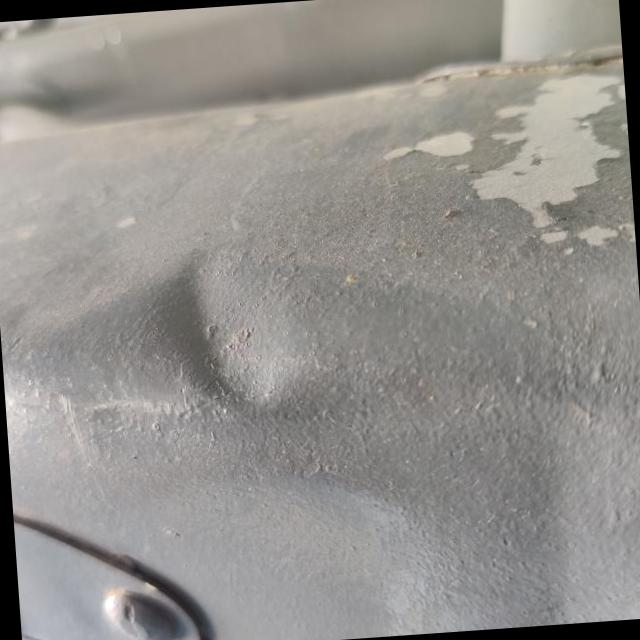Dent: (188, 240, 324, 419)
Paint-off: (392, 74, 628, 257)
